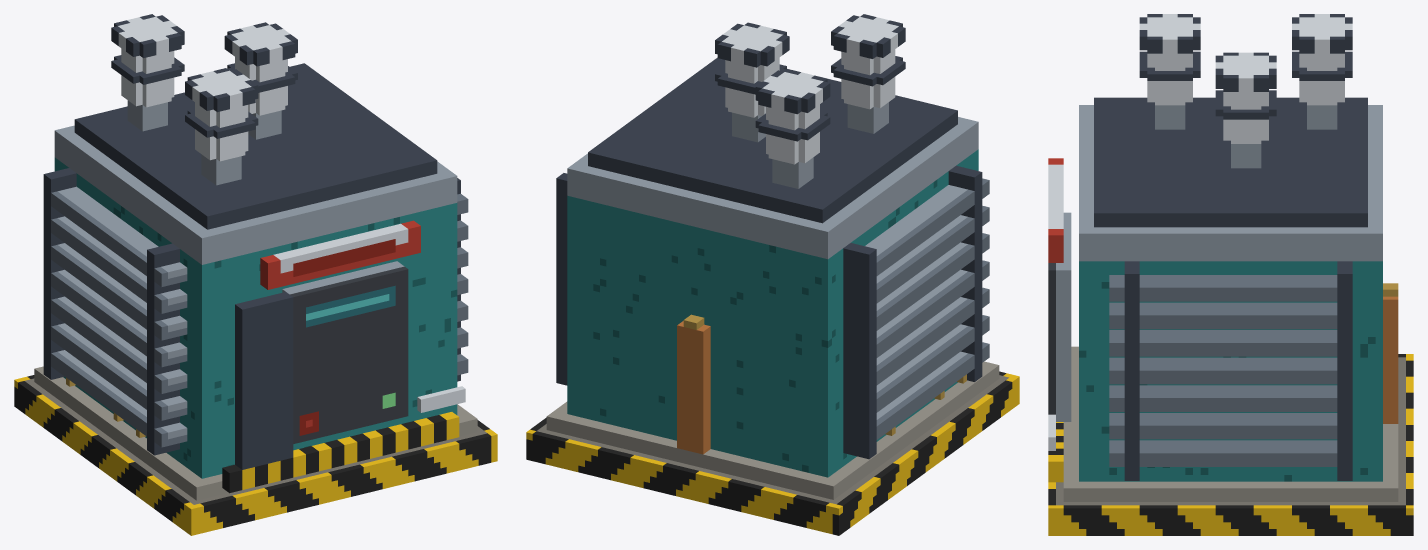
The model's file is power_transformer.obj.
3 views of the same model, side by side, from view 1: azimuth 30°, elevation 25°; view 2: azimuth 150°, elevation 25°; view 3: azimuth 270°, elevation 25° (orthographic). The views are drawn at different scales.
Visible parts, largest first — view 1: power_transformer; view 2: power_transformer; view 3: power_transformer.
Boxes of the visible parts, x1=… form: power_transformer: x1=14, y1=14, x2=497, y2=535; power_transformer: x1=526, y1=14, x2=1019, y2=535; power_transformer: x1=1048, y1=14, x2=1413, y2=535.
Bounding box in the file's own units: 1.5 × 1.81 × 1.5.
